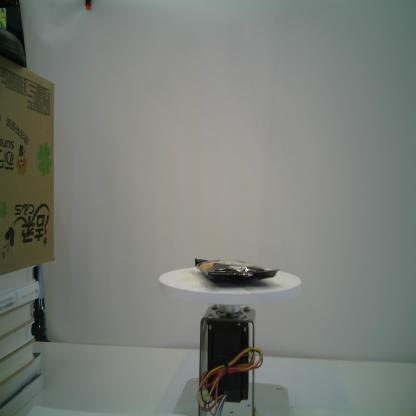Instant Drink: (195, 258, 280, 283)
